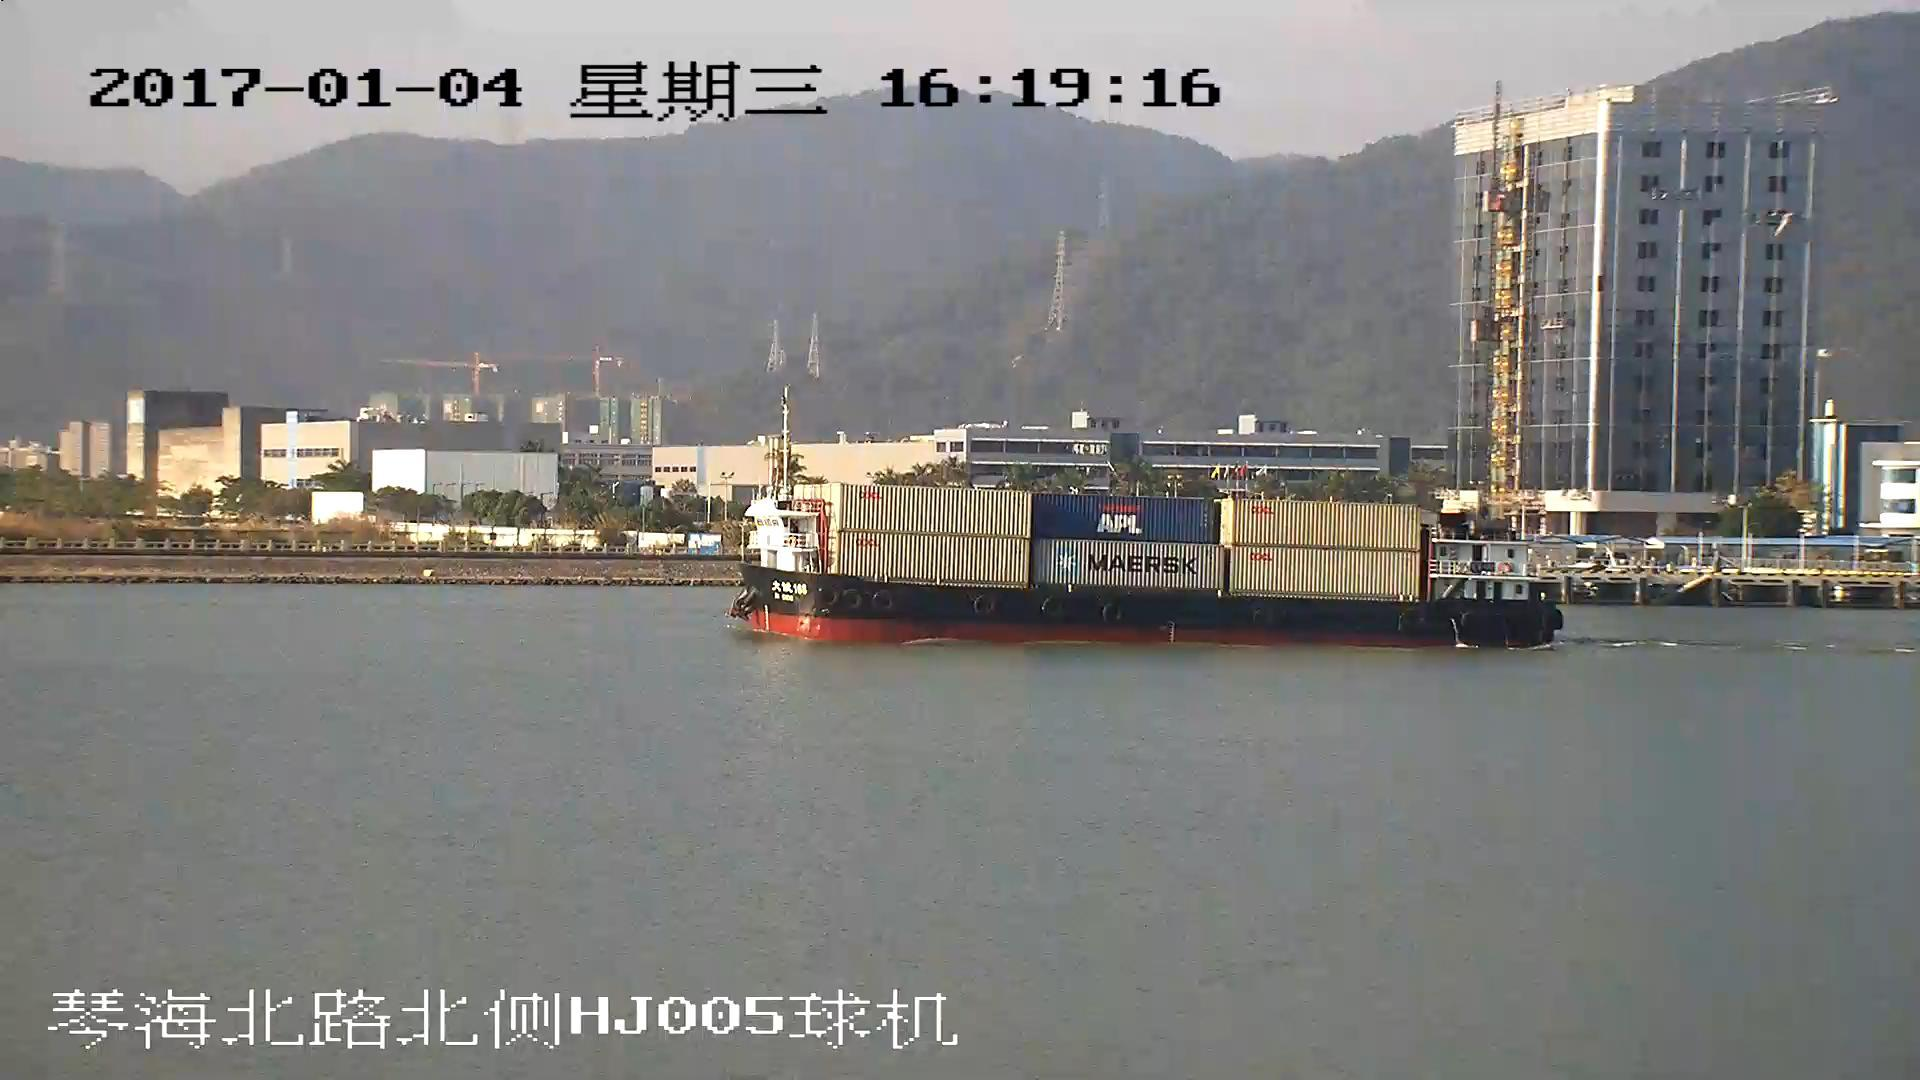Ship: (729, 481, 1567, 650)
